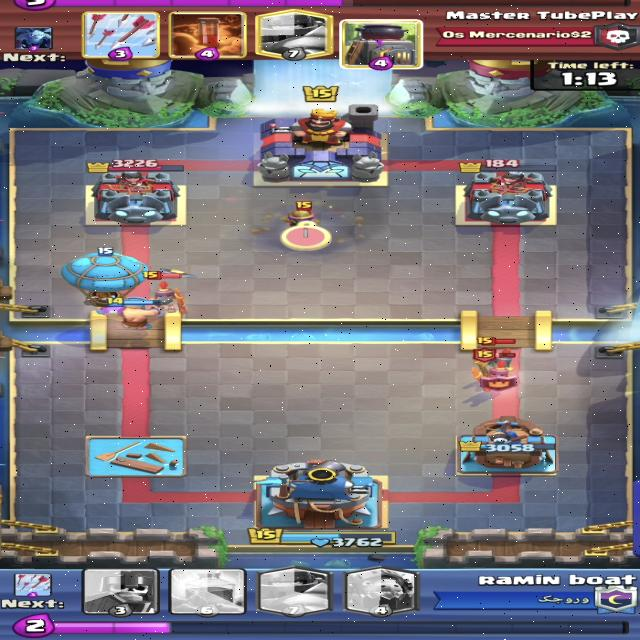Enemy-Guard: (471, 346, 520, 392), (140, 270, 185, 317), (476, 336, 518, 376)
Enemy-Musketeer: (284, 200, 323, 242)
Player-Balloon: (60, 248, 150, 308)
Player-Lumberjack: (104, 296, 175, 332)
